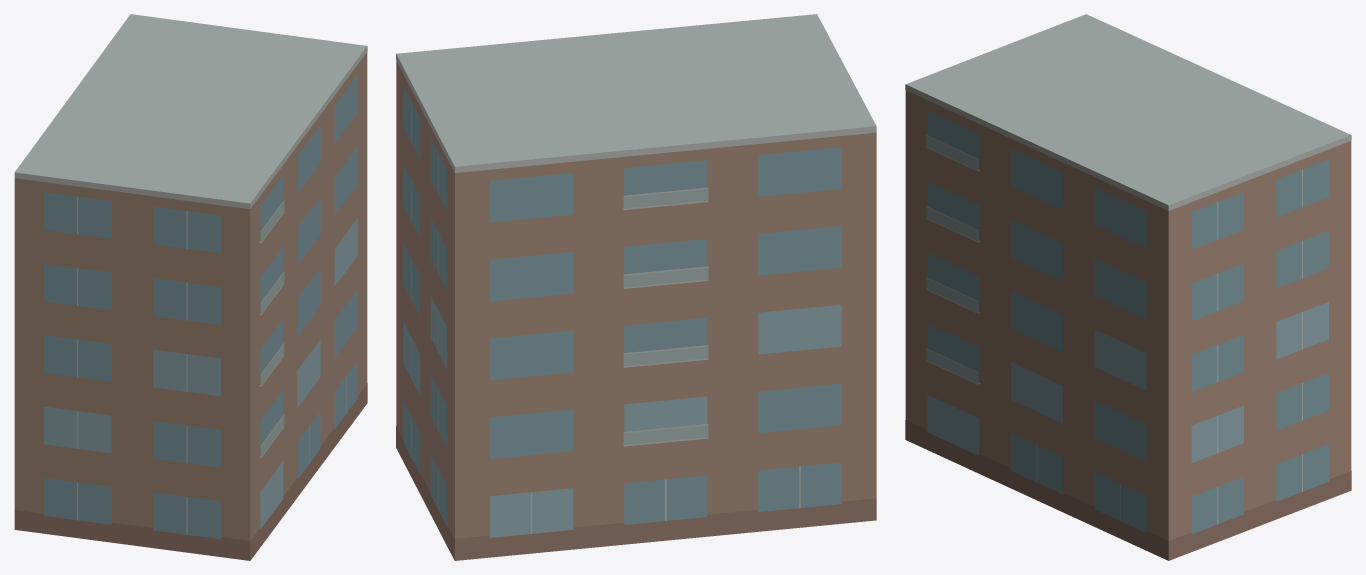
Rendered from survey-upis-32604172.glb.
3 views of the same model, side by side, from view 1: azimuth 30°, elevation 25°; view 2: azimuth 150°, elevation 25°; view 3: azimuth 270°, elevation 25° (orthographic). The views are drawn at different scales.
Visible parts, largest first — view 1: survey-upis-32604172.tmp; view 2: survey-upis-32604172.tmp; view 3: survey-upis-32604172.tmp.
Part boxes in pixels (x1,y1,x2,y2): survey-upis-32604172.tmp: [14, 14, 367, 560]; survey-upis-32604172.tmp: [396, 14, 876, 560]; survey-upis-32604172.tmp: [905, 14, 1351, 560].
Size of the model in its own units: 17.67 by 15.3 by 17.4.
